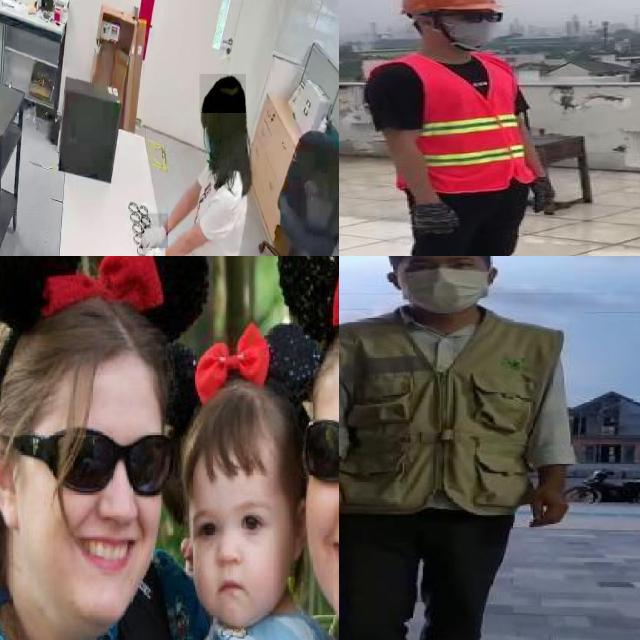No_Ear-Protection: (0, 430, 26, 533)
face_mask: (392, 256, 489, 314), (442, 10, 502, 46)
face_nomask: (37, 422, 169, 582), (192, 506, 280, 606), (301, 416, 339, 583)
glasses: (36, 424, 179, 499), (296, 413, 339, 502), (449, 8, 507, 26)
hand_glove: (405, 201, 462, 238), (521, 177, 556, 217), (141, 214, 168, 248), (139, 240, 168, 256)
hand_noglove: (518, 471, 577, 537)
head_helmet: (393, 0, 507, 12)
head_nohelmet: (11, 278, 184, 404), (183, 379, 286, 481), (304, 315, 339, 398), (200, 74, 247, 114)
person: (339, 256, 578, 640), (345, 0, 596, 256), (142, 113, 249, 256)
vest: (339, 301, 575, 521), (375, 60, 533, 194)
